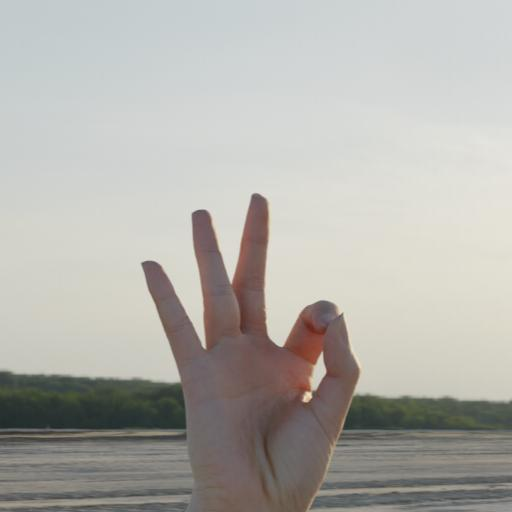F: (137, 189, 363, 512)
